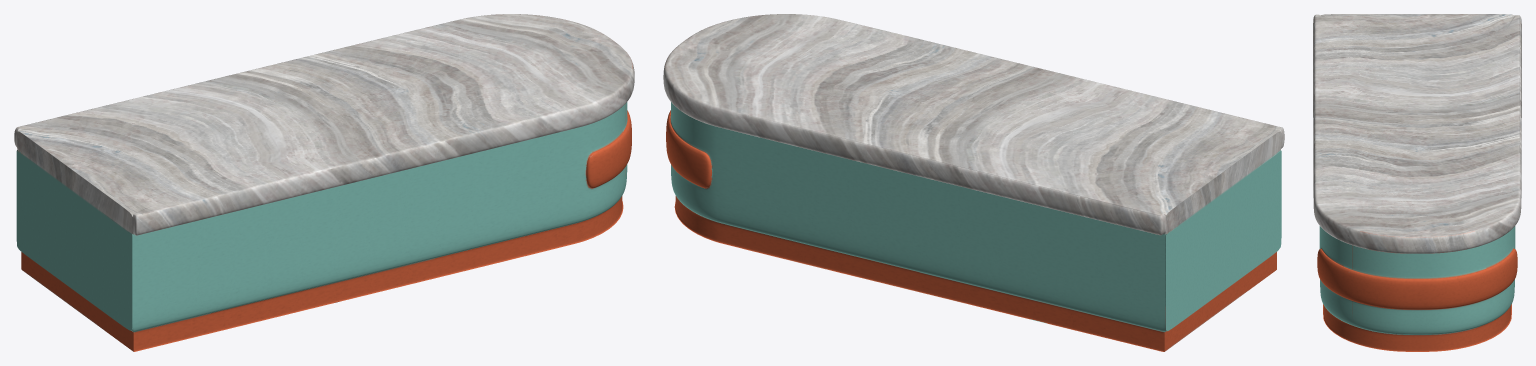
The model's file is RoundedCornerTable.fbx.
3 renders of one model, left to right at view 1: azimuth 30°, elevation 25°; view 2: azimuth 150°, elevation 25°; view 3: azimuth 270°, elevation 25°, orthographic. The views are drawn at different scales.
Visible parts, largest first — view 1: RoundedCornerTable_Baked; view 2: RoundedCornerTable_Baked; view 3: RoundedCornerTable_Baked.
Part boxes in pixels (x1,y1,x2,y2): RoundedCornerTable_Baked: (14,14,634,351); RoundedCornerTable_Baked: (663,14,1284,351); RoundedCornerTable_Baked: (1313,14,1521,351).
Size of the model in its own units: 405 by 100 by 160.
1 material, 1 textured.
